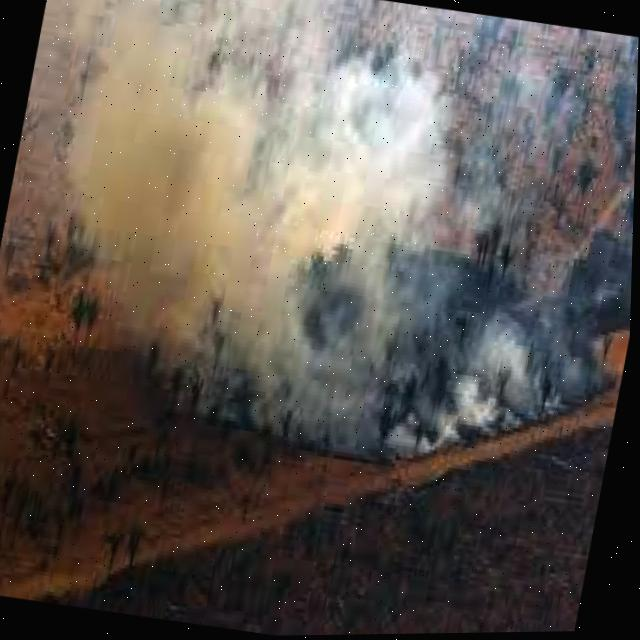smoke: (47, 37, 555, 460)
